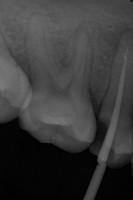Furcation Involvement: (100, 20, 133, 50)
